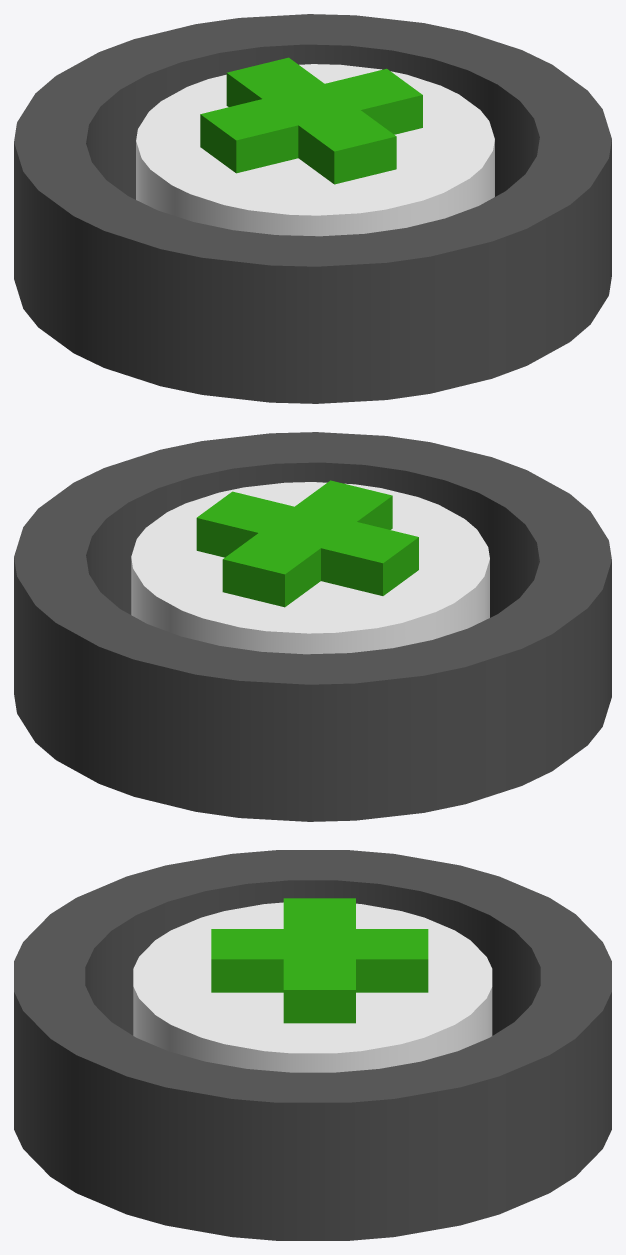
The model's file is powerup_health.obj.
The picture shows the model from 3 angles, top to bottom: view 1: azimuth 30°, elevation 25°; view 2: azimuth 150°, elevation 25°; view 3: azimuth 270°, elevation 25°; orthographic projection.
Parts seen in each view (by area): view 1: pCube11; view 2: pCube11; view 3: pCube11.
Boxes of the visible parts, bbox=[...] form: pCube11: bbox=[14, 14, 611, 403]; pCube11: bbox=[14, 432, 611, 821]; pCube11: bbox=[14, 850, 611, 1240].
Bounding box in the file's own units: 1.96 × 0.62 × 1.96.
